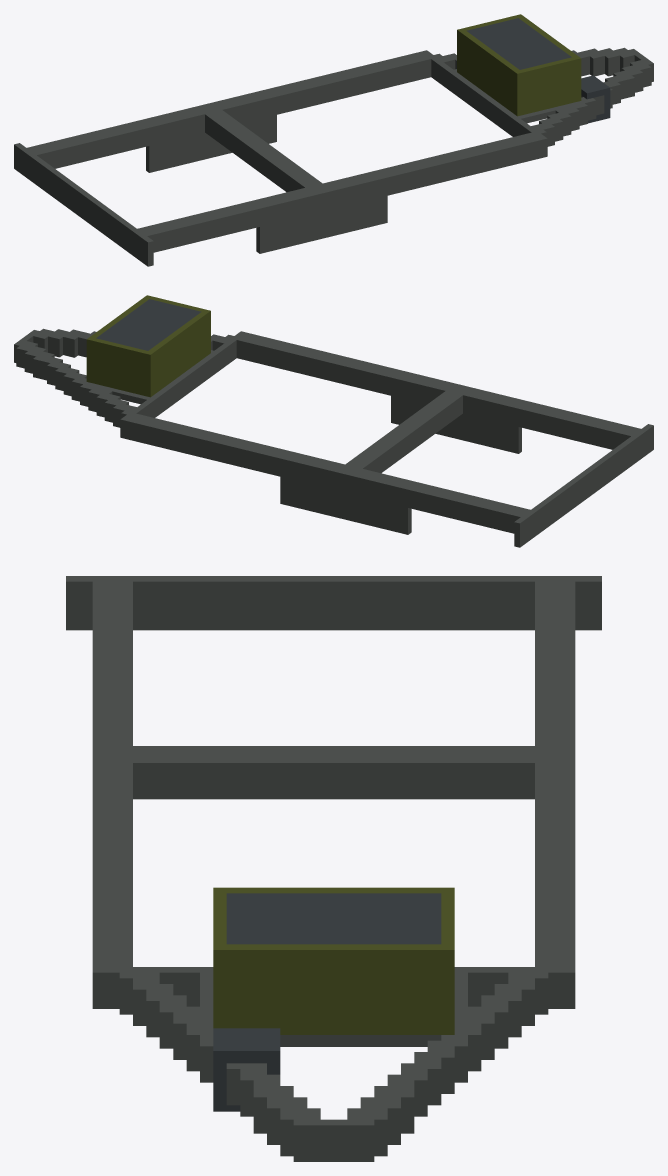
Rendered from checkpoint_barrier_trailer_chassis.glb.
The picture shows the model from 3 angles, top to bottom: view 1: azimuth 30°, elevation 25°; view 2: azimuth 150°, elevation 25°; view 3: azimuth 270°, elevation 25°; orthographic projection. The views are drawn at different scales.
Parts seen in each view (by area): view 1: body:compound; view 2: body:compound; view 3: body:compound.
Part boxes in pixels (x1,y1,x2,y2): body:compound: (14,14,653,266); body:compound: (14,295,653,547); body:compound: (66,576,601,1161).
Bounding box in the file's own units: 3.03 × 0.4688 × 1.25.
